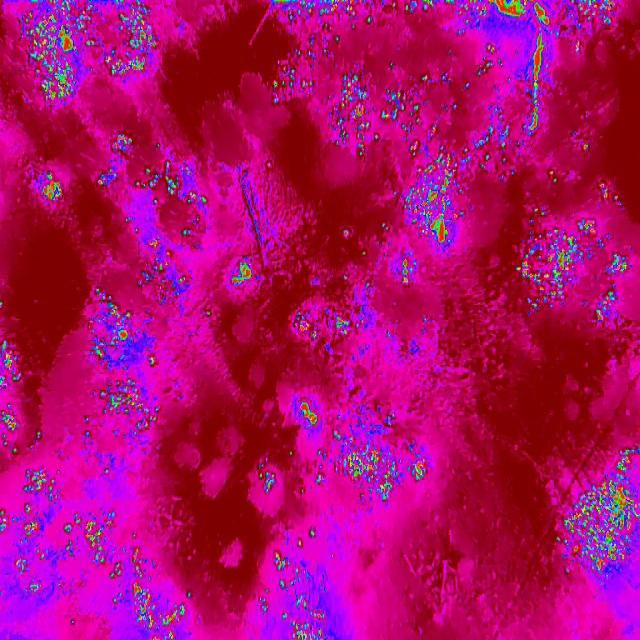fire: (266, 0, 552, 166), (252, 390, 437, 510), (0, 344, 72, 610), (508, 194, 640, 336), (71, 512, 191, 640), (22, 0, 162, 101), (558, 438, 640, 588), (88, 290, 164, 438), (99, 130, 222, 220), (126, 226, 255, 305), (255, 540, 342, 640), (404, 157, 470, 249), (364, 220, 419, 292), (292, 305, 352, 347), (557, 0, 617, 26), (36, 169, 70, 206)
